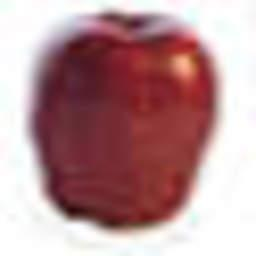apple: (24, 9, 221, 228)
